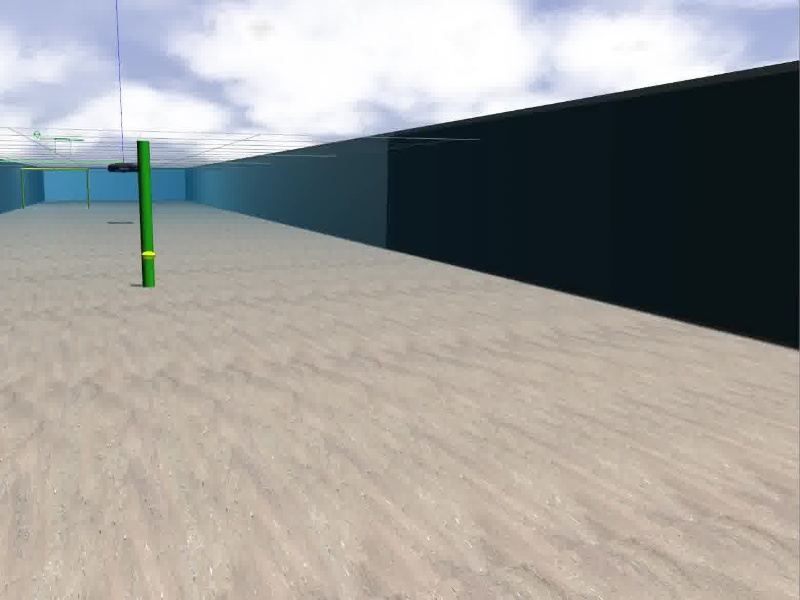gate: (21, 167, 89, 209)
